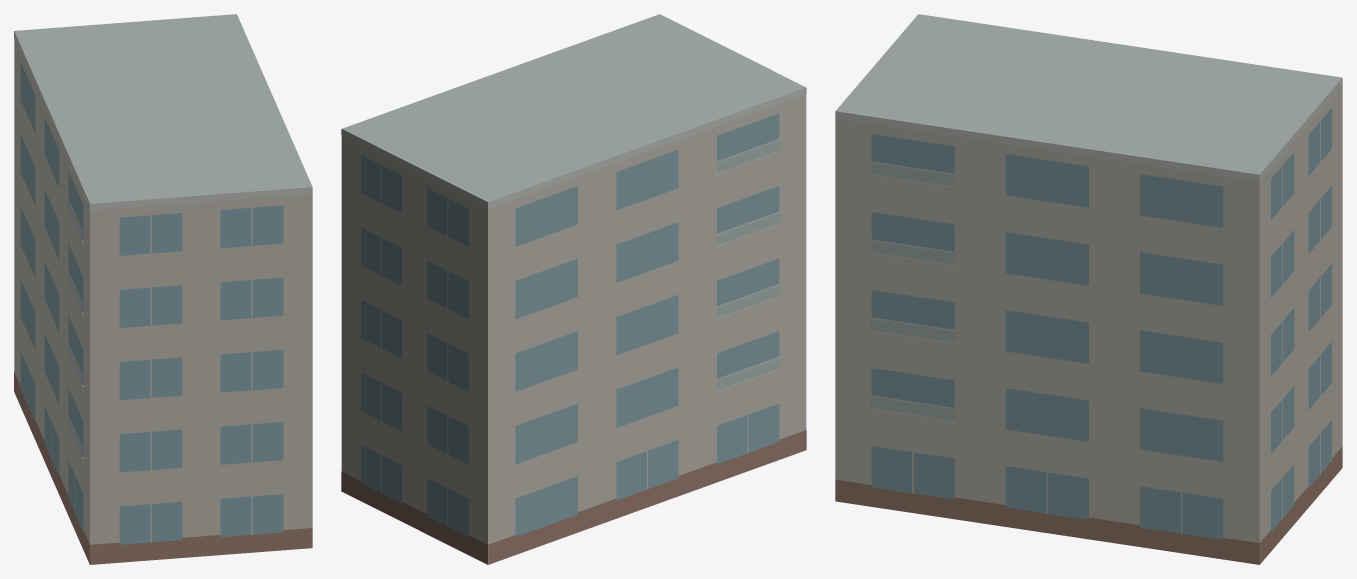
The model's file is survey-upis-32888444.glb.
3 renders of one model, left to right at view 1: azimuth 30°, elevation 25°; view 2: azimuth 150°, elevation 25°; view 3: azimuth 270°, elevation 25°, orthographic. The views are drawn at different scales.
Visible parts, largest first — view 1: survey-upis-32888444.tmp; view 2: survey-upis-32888444.tmp; view 3: survey-upis-32888444.tmp.
Boxes of the visible parts, x1,y1,x2,y2 form: survey-upis-32888444.tmp: (14,14,312,564); survey-upis-32888444.tmp: (341,14,806,564); survey-upis-32888444.tmp: (835,14,1342,564).
Bounding box in the file's own units: 11.72 × 13.25 × 15.62.
